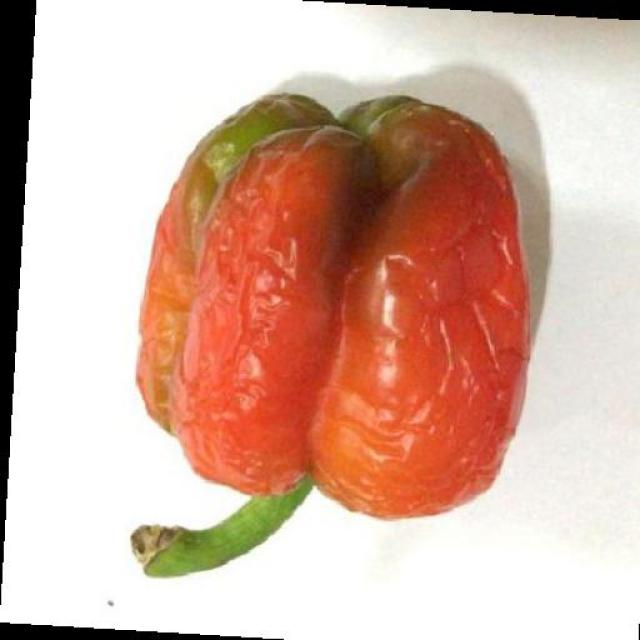Stale_Capsicum: (130, 96, 547, 597)
